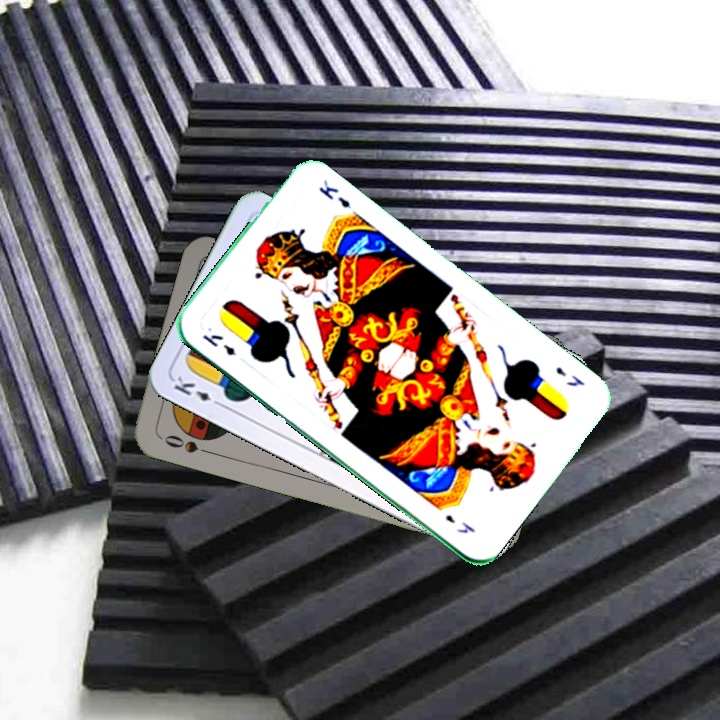EK: (169, 372, 226, 410), (199, 330, 238, 359), (551, 362, 587, 390)
SO: (160, 430, 214, 457)
